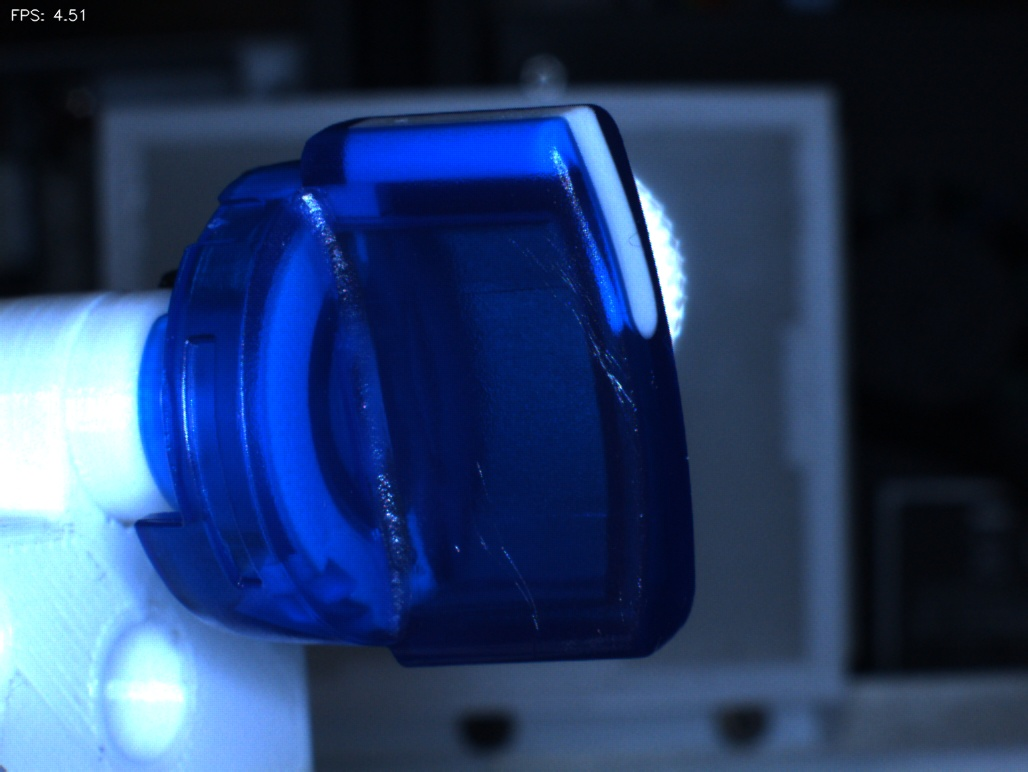Givrage: (518, 233, 639, 414), (442, 450, 551, 636)
